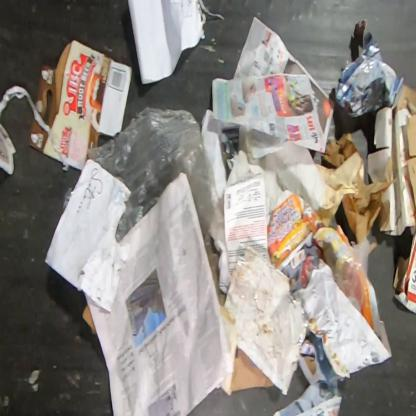cardboard: (35, 39, 133, 171), (366, 83, 415, 237), (393, 226, 415, 317), (231, 347, 276, 391), (29, 116, 63, 164), (79, 303, 97, 335)
soft_plastic: (88, 105, 226, 245), (333, 237, 370, 316), (62, 186, 77, 213)
